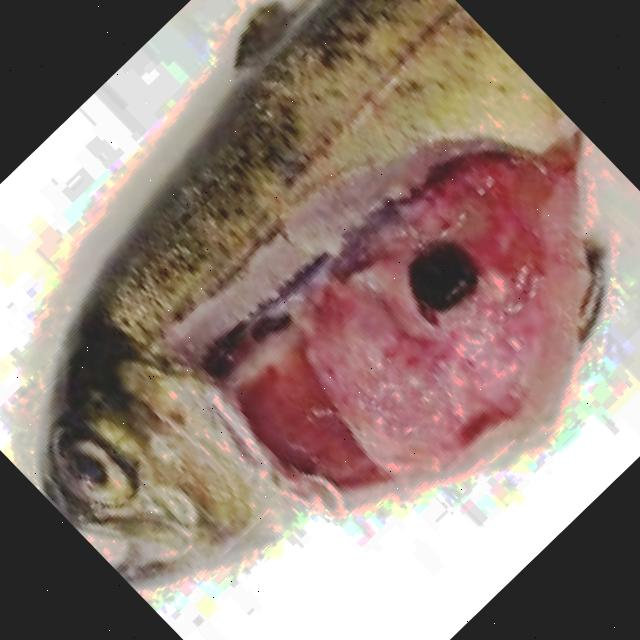Aeromonas Septicemia: (40, 0, 602, 583), (40, 0, 602, 580)
